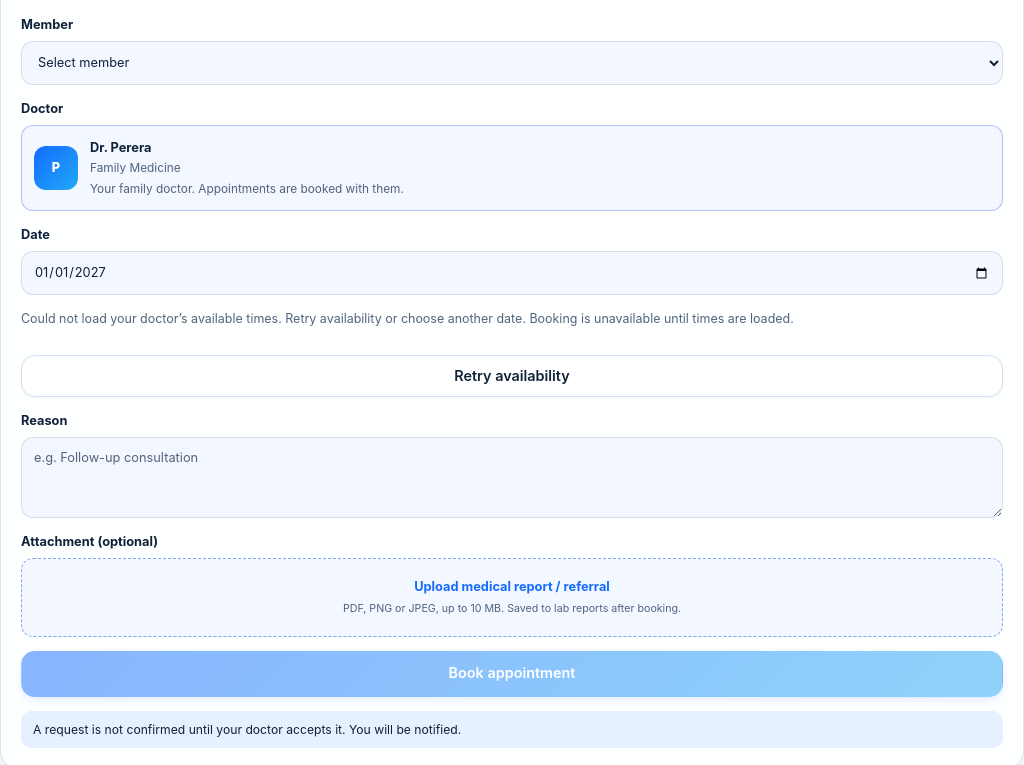
Scenario: AppointmentsPage booking form › blocks booking on availability failure and retries without a manual time input
(page scrolled)
Expected: the button "Book appointment" is disabled, [21,650,1003,696]
Submit the form named "Book appointment"
(page scrolled)
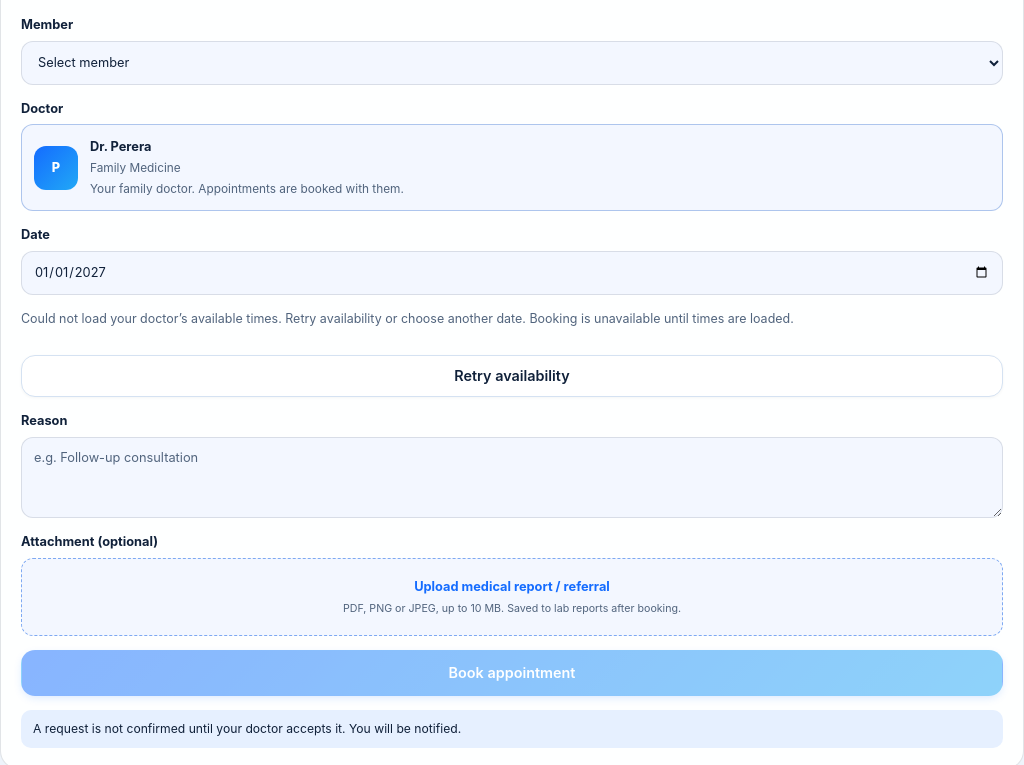
Click the button "Retry availability" at [512, 376], box [21,354,1003,397]
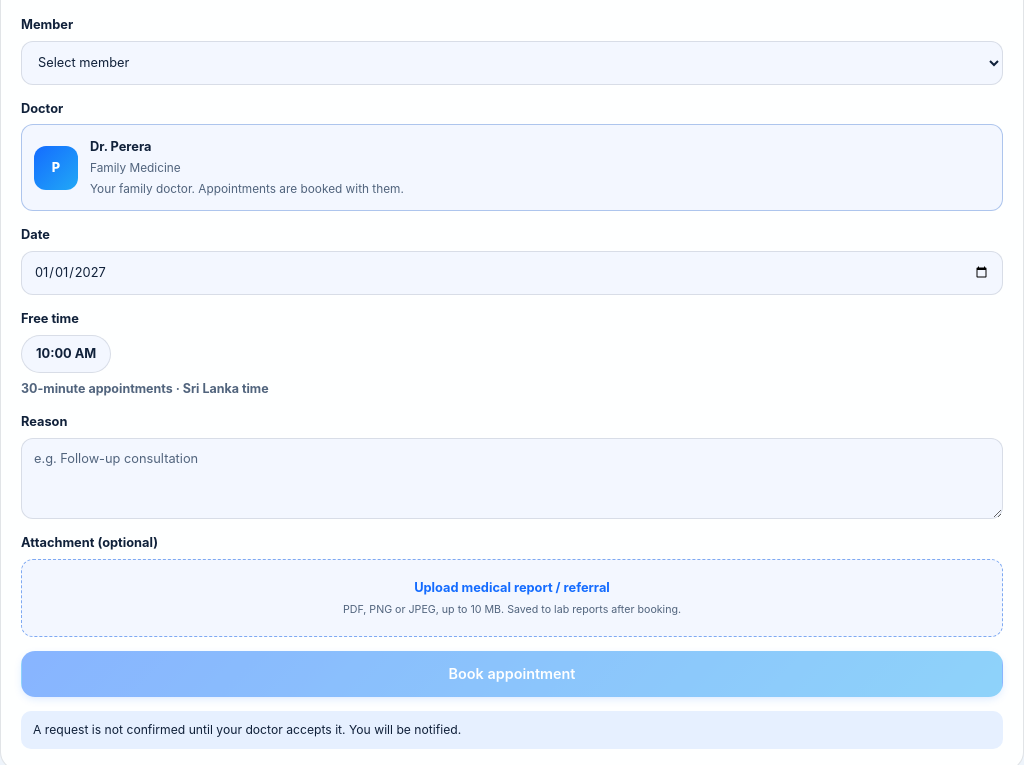
Result: the button "10:00 AM" is shown at [21,334,111,372]
